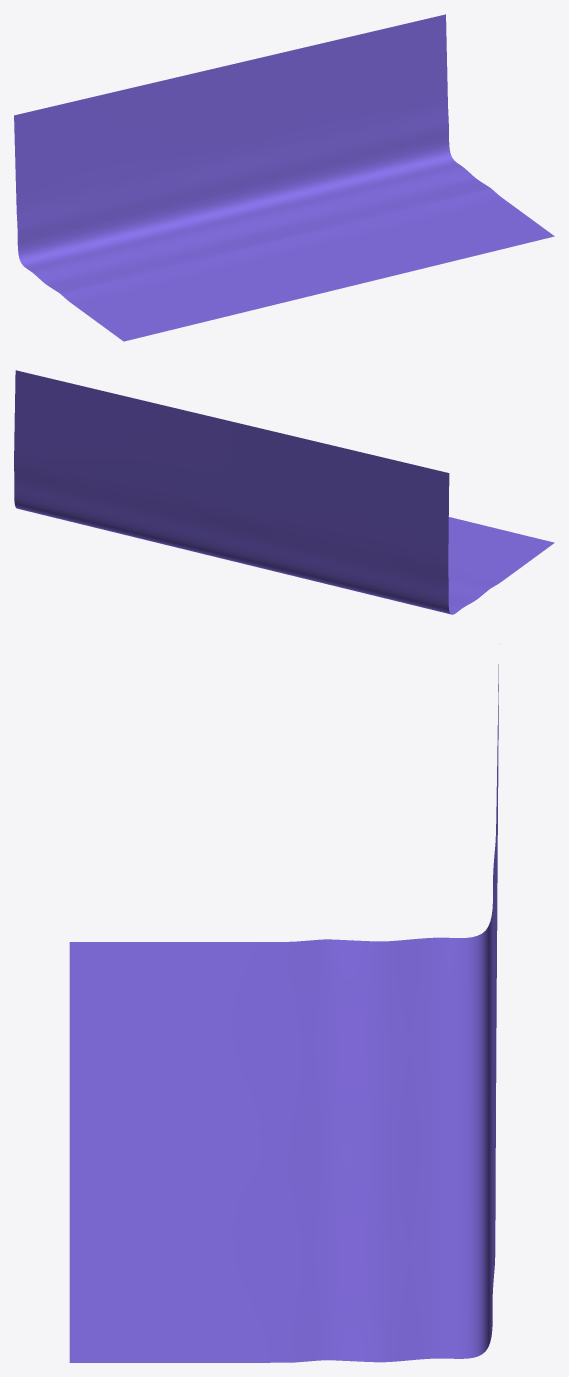
The model's file is backdrop.fbx.
The picture shows the model from 3 angles, top to bottom: view 1: azimuth 30°, elevation 25°; view 2: azimuth 150°, elevation 25°; view 3: azimuth 270°, elevation 25°; orthographic projection. The views are drawn at different scales.
Parts seen in each view (by area): view 1: Plane; view 2: Plane; view 3: Plane.
Part boxes in pixels (x1,y1,x2,y2): Plane: (14,14,554,341); Plane: (14,370,554,614); Plane: (69,664,498,1362).
Bounding box in the file's own units: 3603 × 1177 × 1545.
